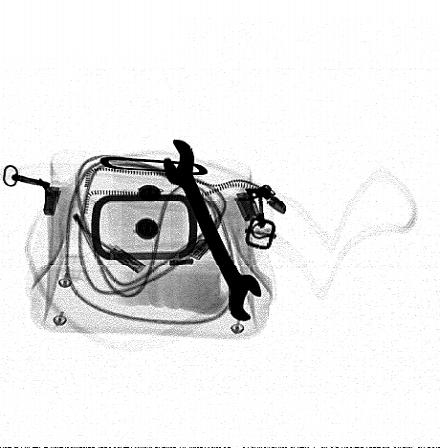Wrench: (163, 138, 262, 321)
